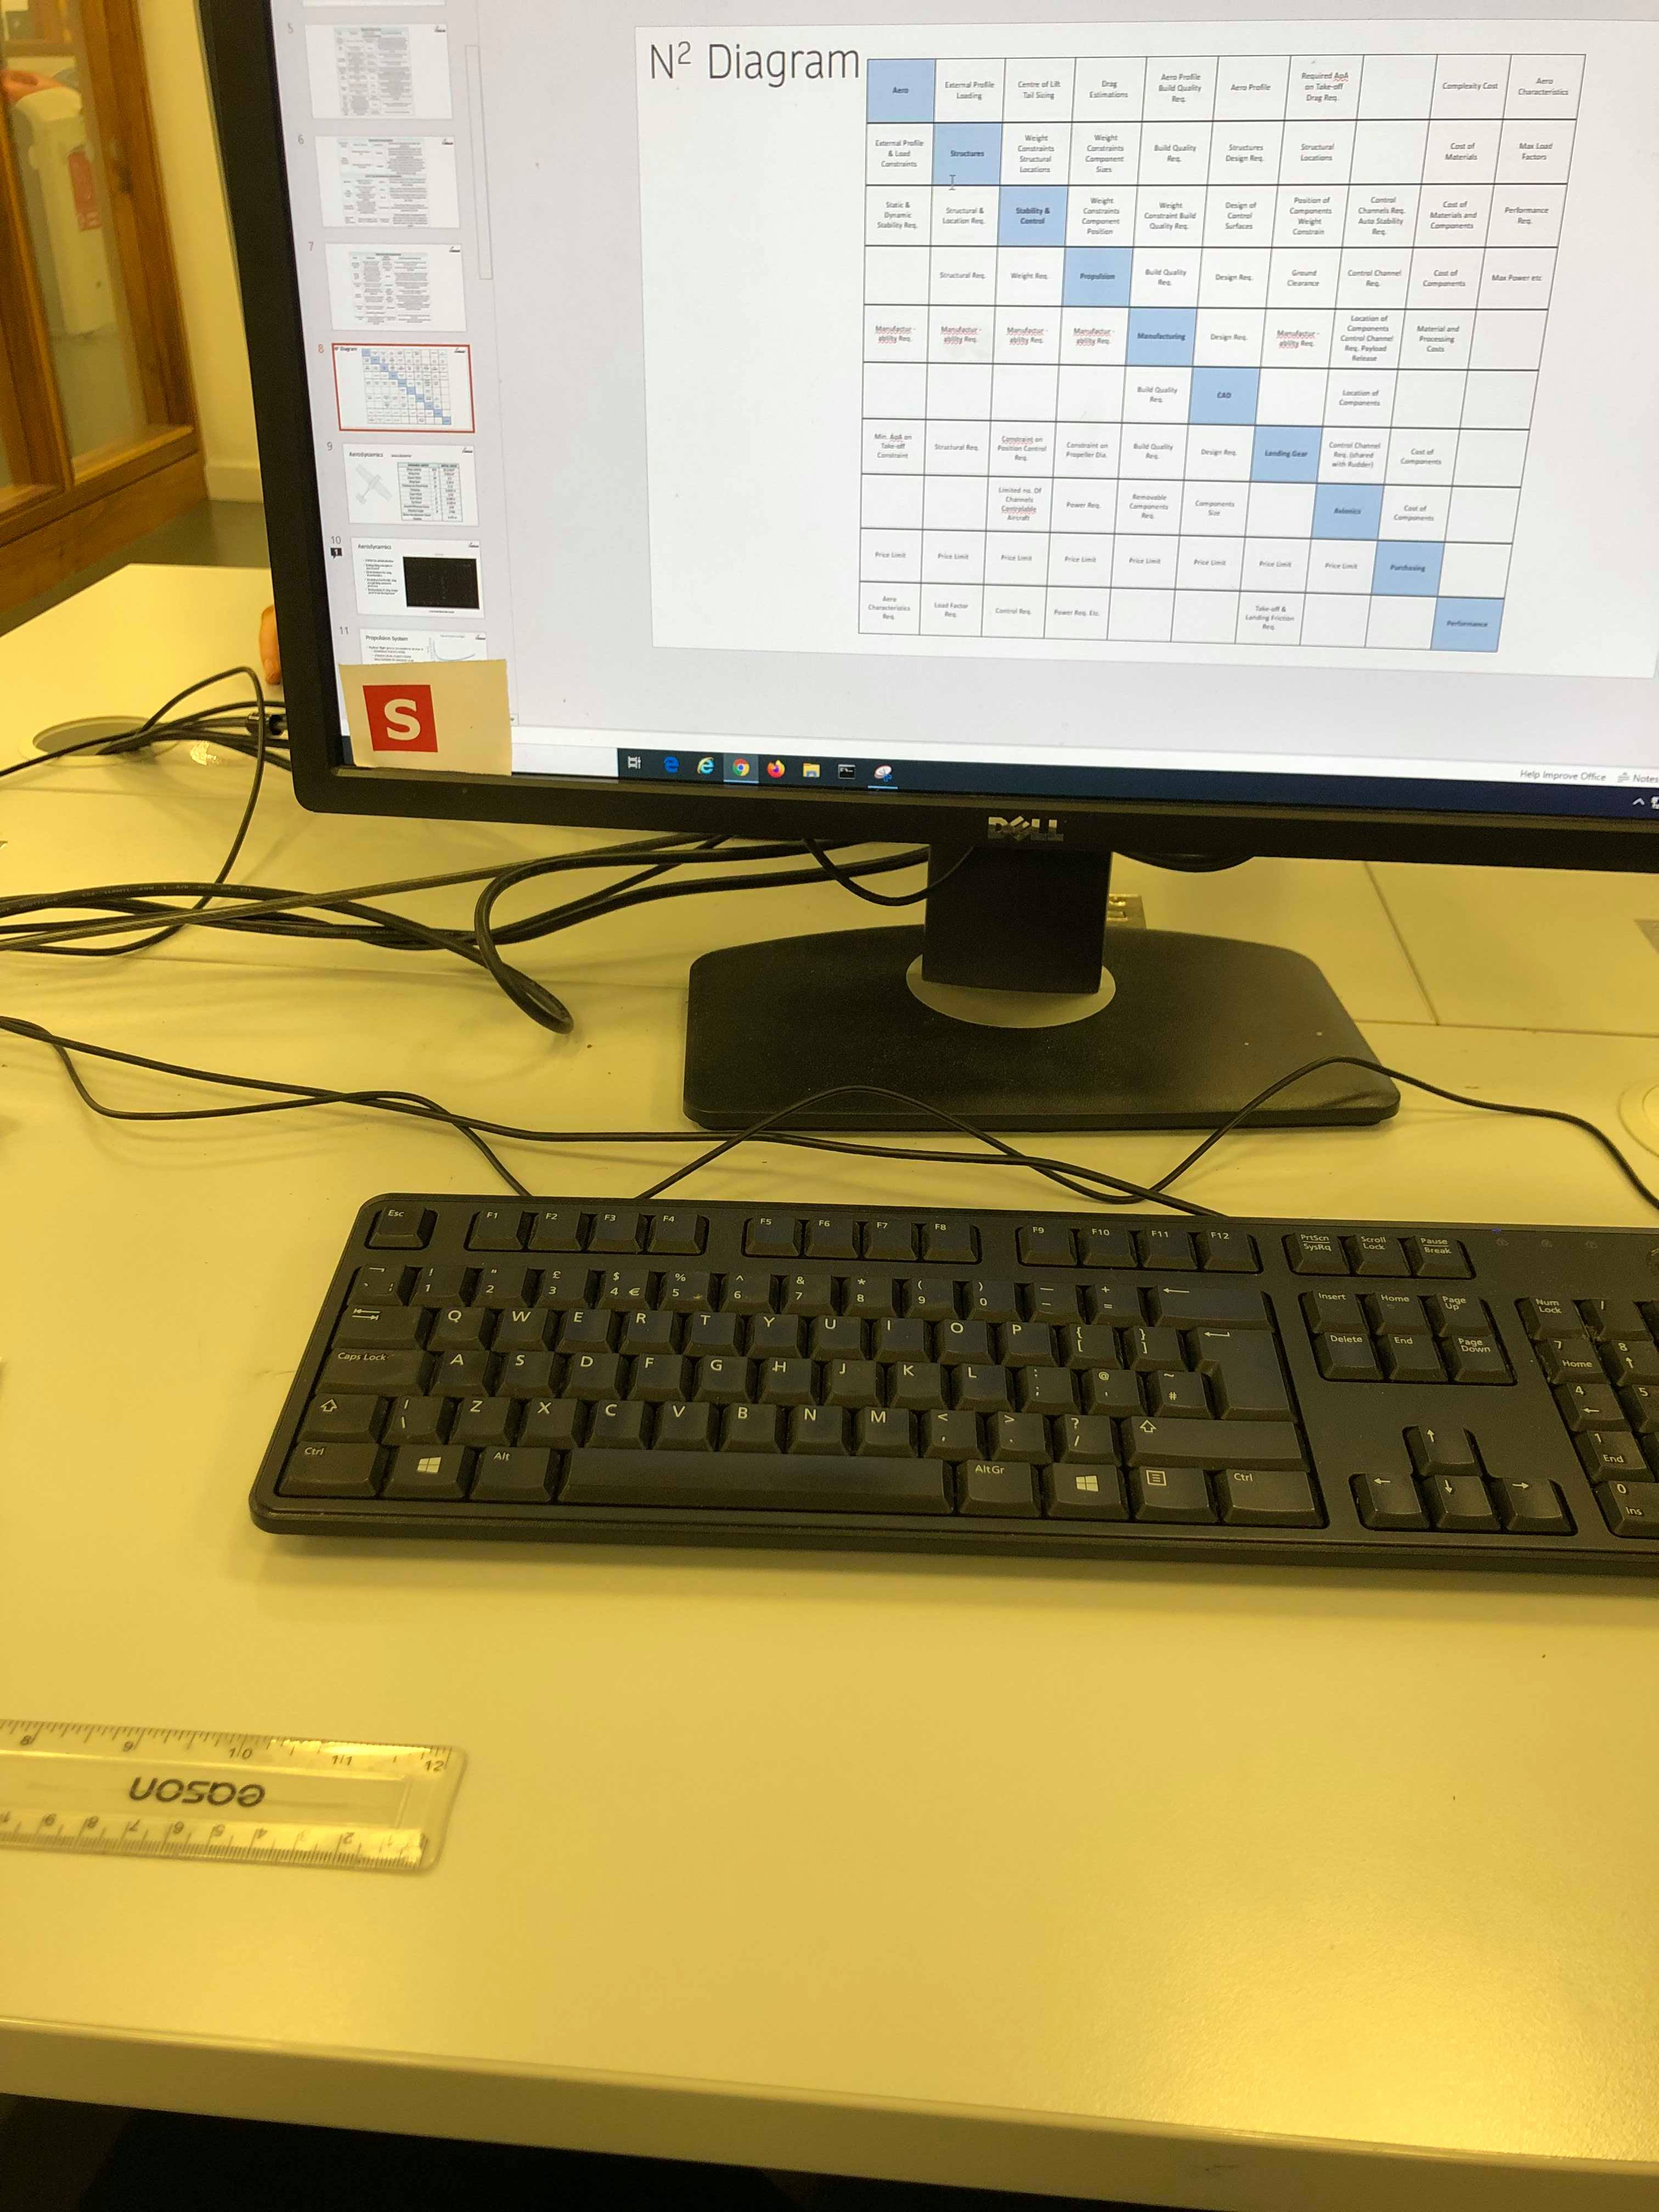red marker: (331, 643, 471, 791)
